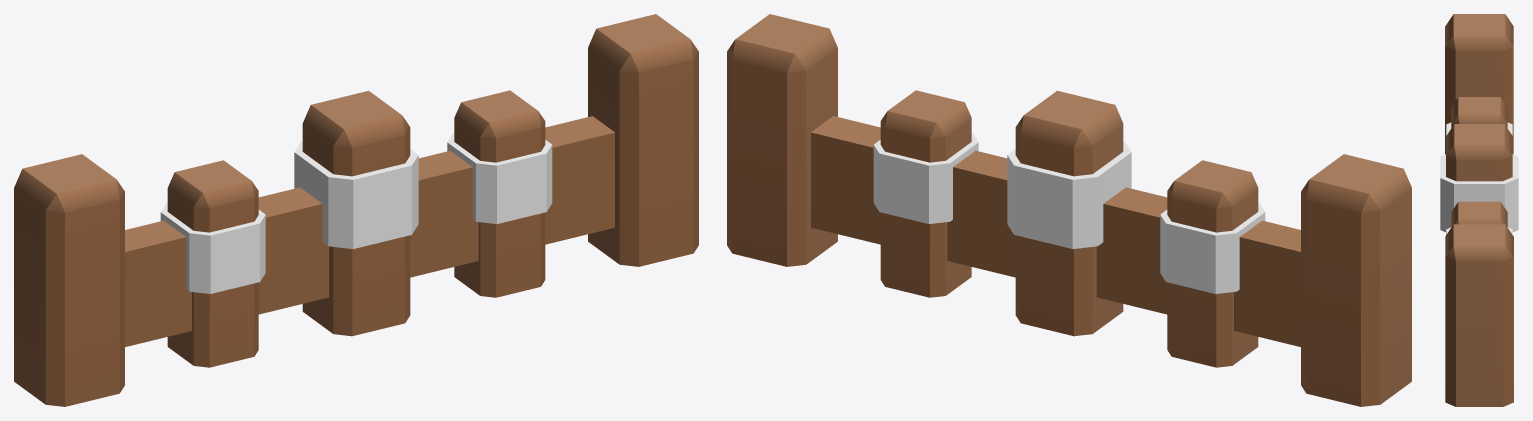
Rendered from Wall_Lv6_1.fbx.
3 views of the same model, side by side, from view 1: azimuth 30°, elevation 25°; view 2: azimuth 150°, elevation 25°; view 3: azimuth 270°, elevation 25° (orthographic). The views are drawn at different scales.
Visible parts, largest first — view 1: Wall; view 2: Wall; view 3: Wall.
Boxes of the visible parts, x1=… form: Wall: x1=14, y1=14, x2=698, y2=406; Wall: x1=727, y1=14, x2=1411, y2=406; Wall: x1=1440, y1=14, x2=1518, y2=406.
Bounding box in the file's own units: 1.52 × 0.465 × 0.2098.
